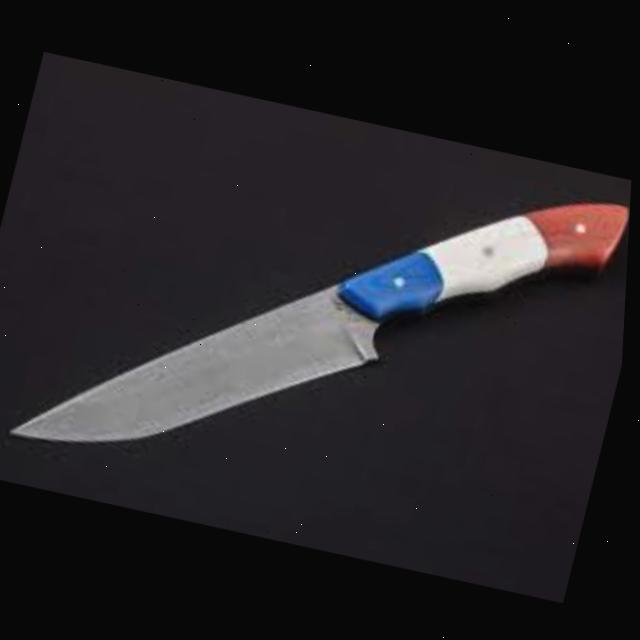Knife: (8, 81, 637, 551)
